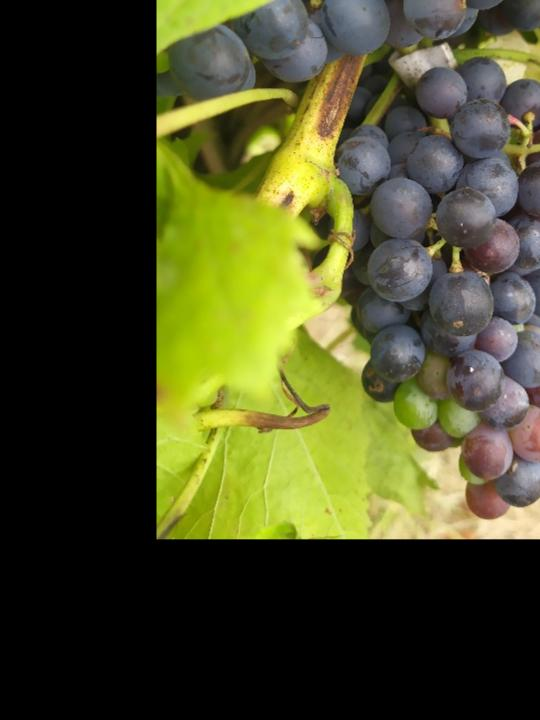grape: (317, 57, 540, 524)
